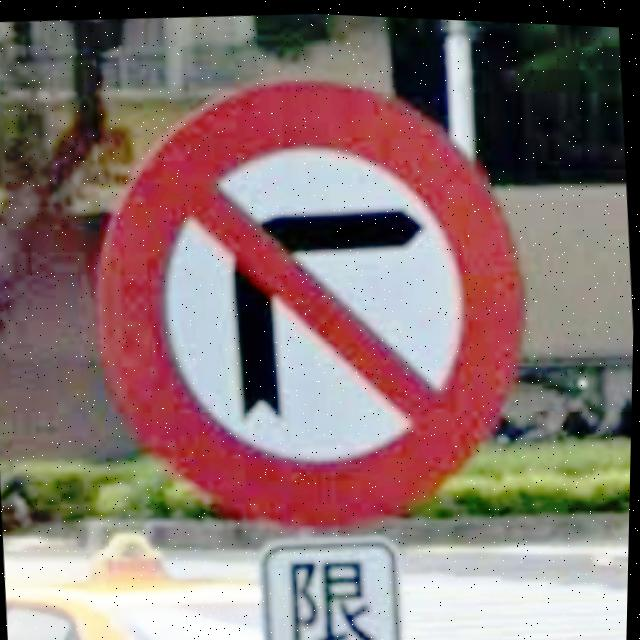noturnright: (98, 78, 527, 526)
